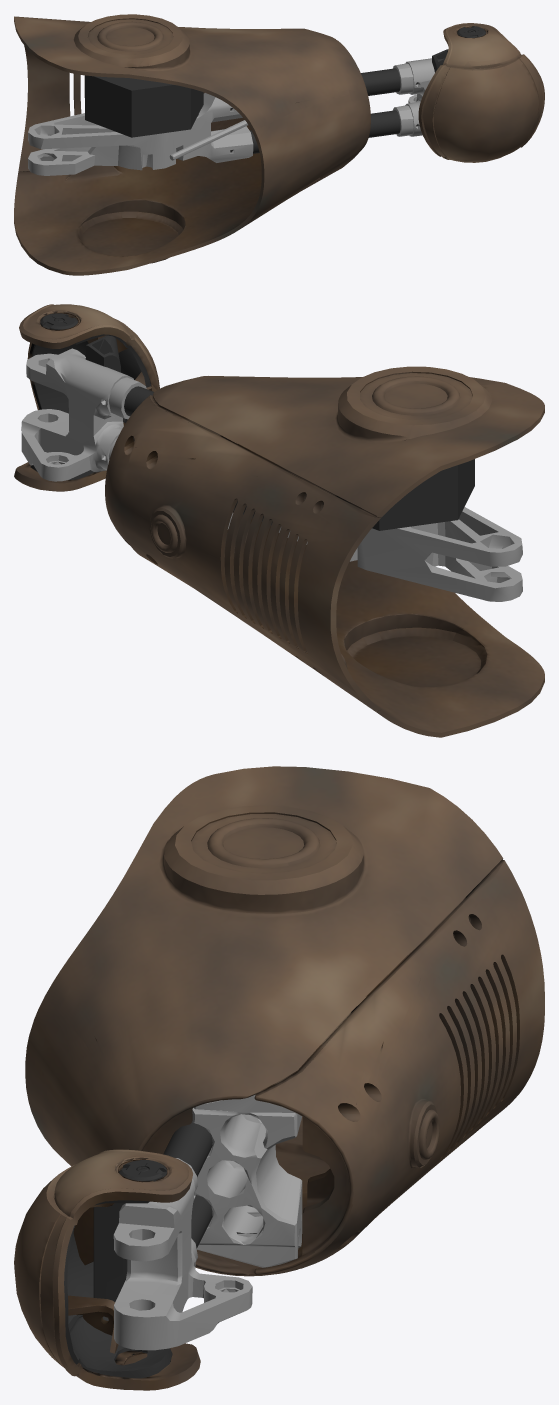
The model's file is tibia_r.dae.
3 views of the same model, one above another, from view 1: azimuth 30°, elevation 25°; view 2: azimuth 150°, elevation 25°; view 3: azimuth 270°, elevation 25° (orthographic). The views are drawn at different scales.
Parts seen in each view (by area): view 1: tibia_r.004; view 2: tibia_r.004; view 3: tibia_r.004.
Part boxes in pixels (<box>): tibia_r.004: <box>14,14,544,275</box>; tibia_r.004: <box>14,304,544,737</box>; tibia_r.004: <box>14,766,544,1390</box>.
Size of the model in its own units: 0.3214 by 0.1966 by 0.1458.
4 materials, 1 textured.
